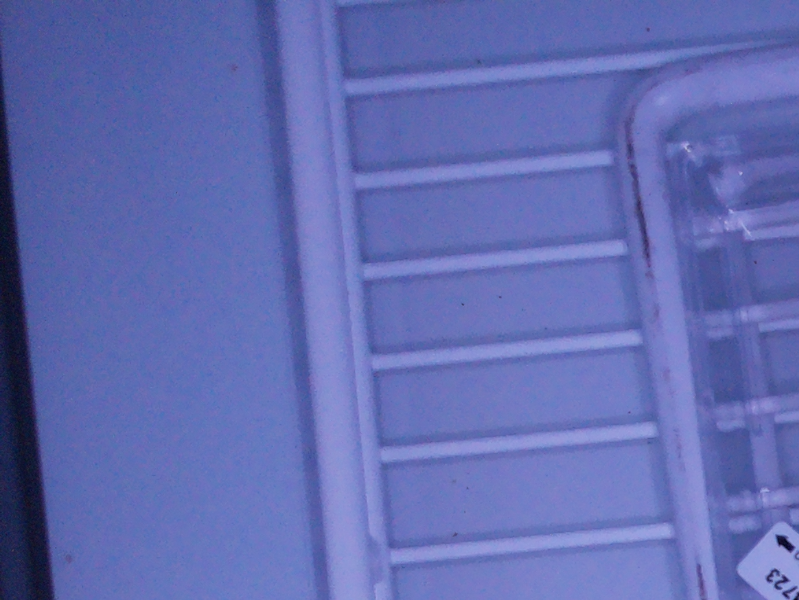plate: (663, 128, 799, 600)
